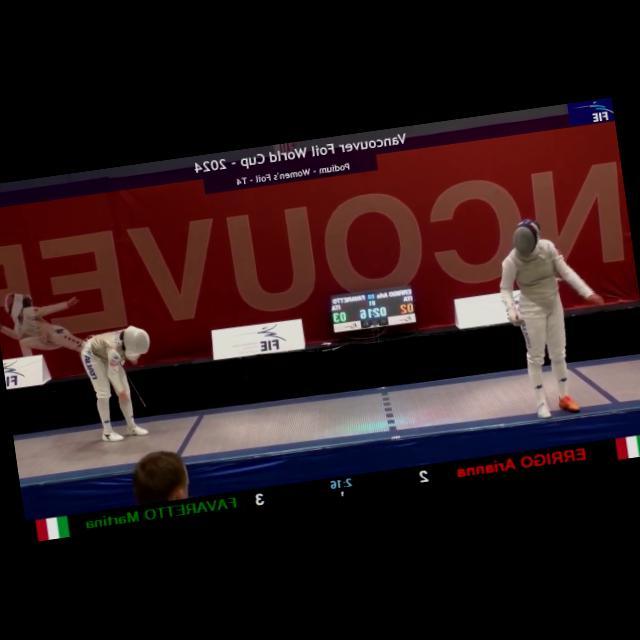blade: (512, 316, 550, 410), (117, 358, 148, 414)
